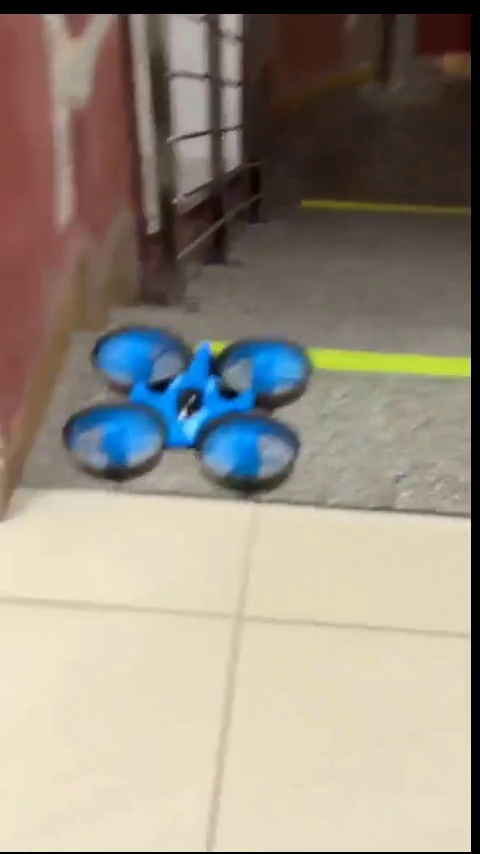drone: (66, 329, 305, 495)
